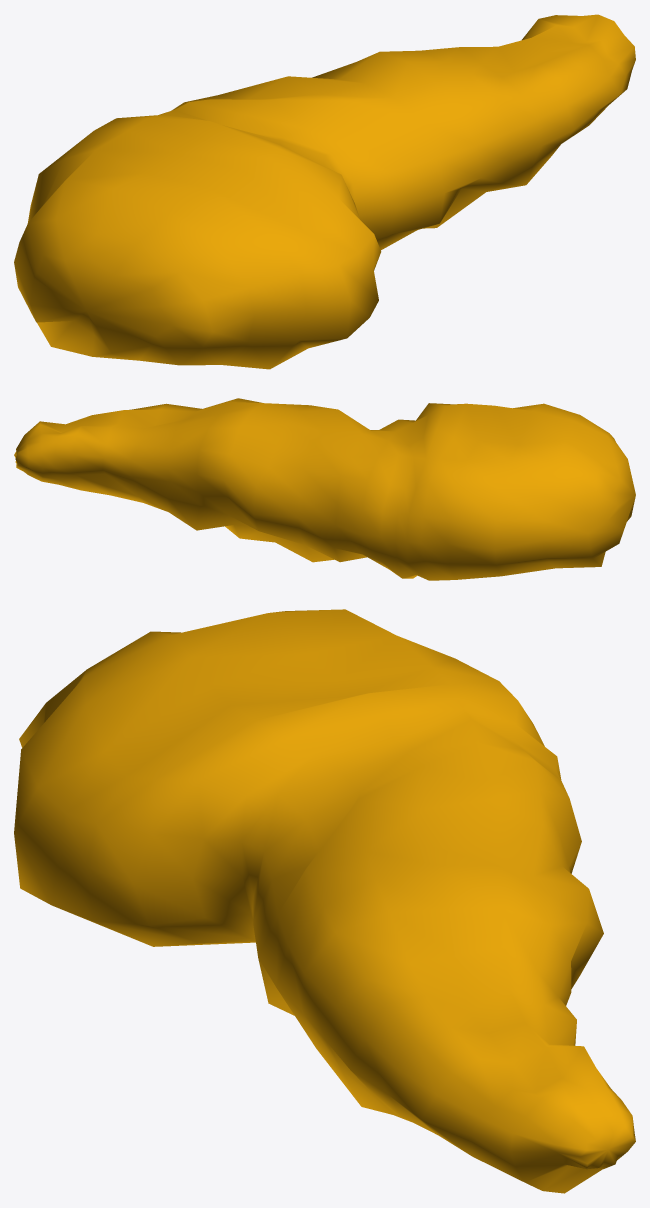
File: PANCREAS.glb
3 renders of one model, top to bottom at view 1: azimuth 30°, elevation 25°; view 2: azimuth 150°, elevation 25°; view 3: azimuth 270°, elevation 25°, orthographic. The views are drawn at different scales.
Visible parts, largest first — view 1: PANCREAS; view 2: PANCREAS; view 3: PANCREAS.
Part boxes in pixels (x1=…): PANCREAS: x1=14, y1=14, x2=635, y2=369; PANCREAS: x1=14, y1=398, x2=635, y2=580; PANCREAS: x1=14, y1=609, x2=635, y2=1193.
Bounding box in the file's own units: 2.41 × 0.6033 × 1.31.
